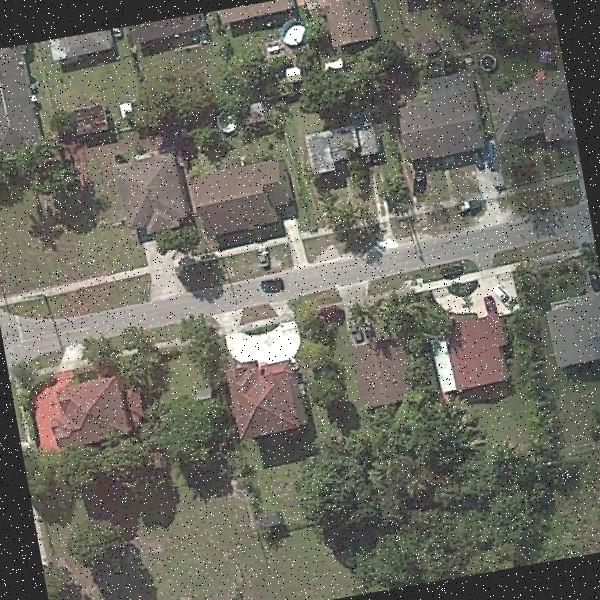Buildings: (196, 160, 298, 231), (486, 74, 575, 154), (224, 354, 308, 434), (399, 88, 488, 163), (34, 378, 130, 443), (438, 305, 514, 379), (348, 318, 410, 404), (117, 154, 188, 226), (546, 291, 600, 363), (316, 0, 378, 46), (305, 125, 370, 166), (126, 12, 208, 43), (46, 29, 113, 60), (220, 0, 295, 25)
